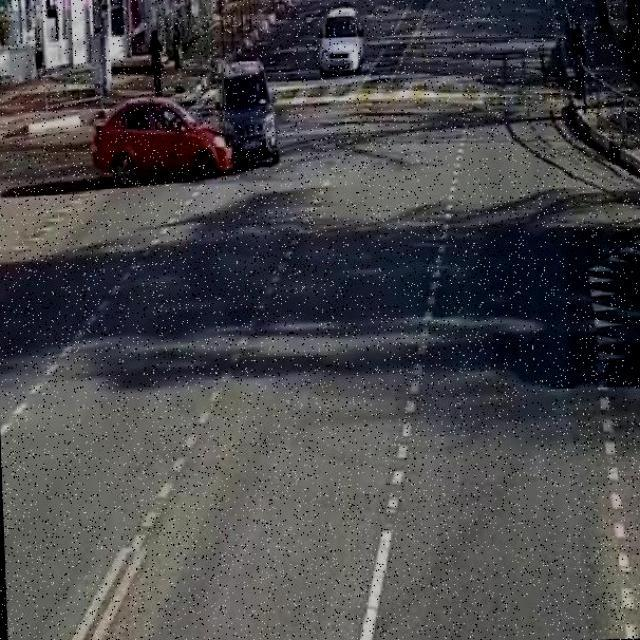accident: (178, 85, 269, 168)
